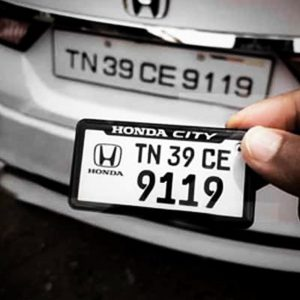numberplate: (51, 29, 267, 109)
